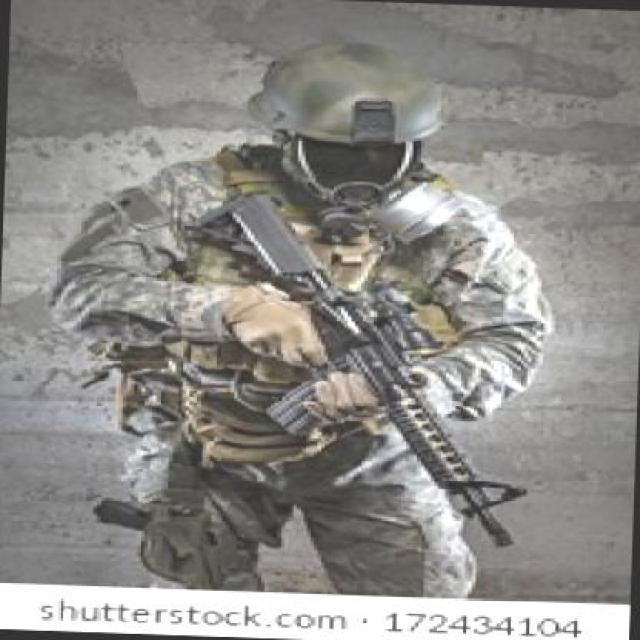MIL_Pax: (42, 31, 561, 603)
